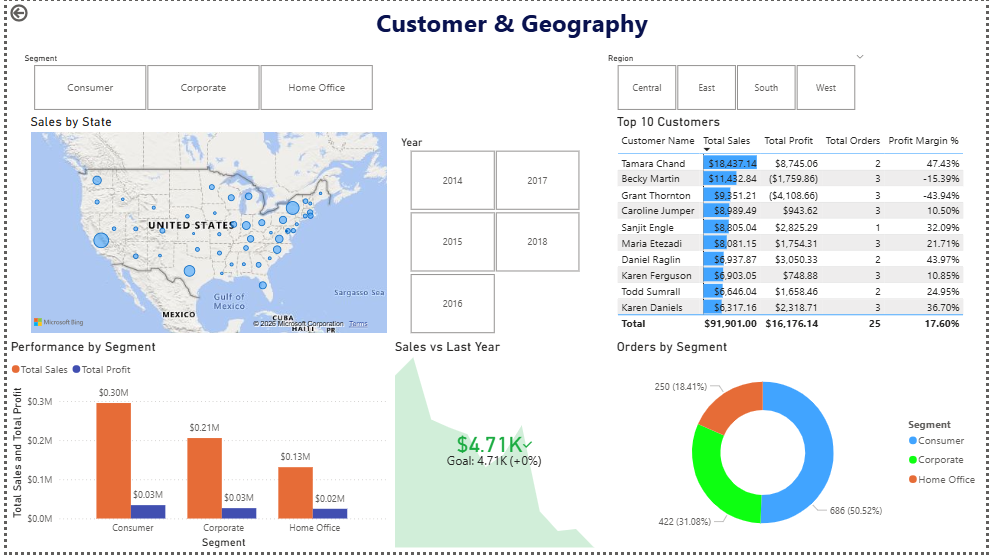

The page's visual inventory and layout, read from the dashboard file:
{"tool":"powerbi","page":{"name":" Customer & Geography ","canvas":[1280,720],"ordinal":2},"visuals":[{"type":"textbox","box":[10,0,1270,62],"z":0},{"type":"map","title":"Sales by State","fields":{"Category":["Sample - Superstore.State"],"Size":["_Measures.Total Sales"]},"box":[26,148,476,292],"z":1},{"type":"actionButton","box":[0,0,100,40],"z":2},{"type":"tableEx","title":"Top 10 Customers","fields":{"Values":["Customers.Customer Name","_Measures.Total Sales","_Measures.Total Profit","_Measures.Total Orders","_Measures.Profit Margin %"]},"box":[792,148,488,294],"z":3},{"type":"clusteredColumnChart","title":"Performance by Segment","fields":{"Category":["Sample - Superstore.Segment"],"Y":["_Measures.Total Sales","_Measures.Total Profit"]},"box":[0,442,502,278],"z":4},{"type":"kpi","title":"Sales vs Last Year","fields":{"Indicator":["_Measures.Total Sales"],"TrendLine":["Date Table.Month"],"Goal":["_Measures.Sales LY"]},"box":[502,442,270,278],"z":5},{"type":"donutChart","title":"Orders by Segment","fields":{"Category":["Sample - Superstore.Segment"],"Y":["_Measures.Total Orders"]},"box":[792,442,488,278],"z":6},{"type":"slicer","fields":{"Values":["Date Table.Year"]},"box":[502,170,270,270],"z":7},{"type":"slicer","fields":{"Values":["Sample - Superstore.Region"]},"box":[772,62,360,86],"z":8},{"type":"slicer","fields":{"Values":["Sample - Superstore.Segment"]},"box":[10,62,492,86],"z":9}]}

Visuals, with their boxes in screenshot pixels (x1, y1, x2, y2), scaled from the page's 1280x720 canvas onto the 989x556 screenshot:
textbox: locate(8, 0, 988, 48)
"Sales by State" map: locate(20, 114, 388, 340)
actionButton: locate(0, 0, 77, 31)
"Top 10 Customers" tableEx: locate(612, 114, 988, 341)
"Performance by Segment" clusteredColumnChart: locate(0, 341, 388, 555)
"Sales vs Last Year" kpi: locate(388, 341, 596, 555)
"Orders by Segment" donutChart: locate(612, 341, 988, 555)
slicer - Date Table.Year: locate(388, 131, 596, 340)
slicer - Sample - Superstore.Region: locate(596, 48, 875, 114)
slicer - Sample - Superstore.Segment: locate(8, 48, 388, 114)
